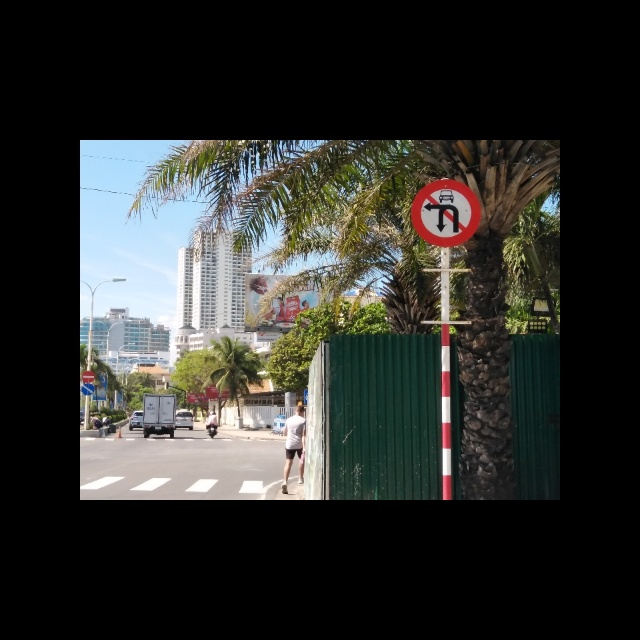Cấm xe ô tô quay đầu và rẽ trái: (411, 178, 483, 250)
